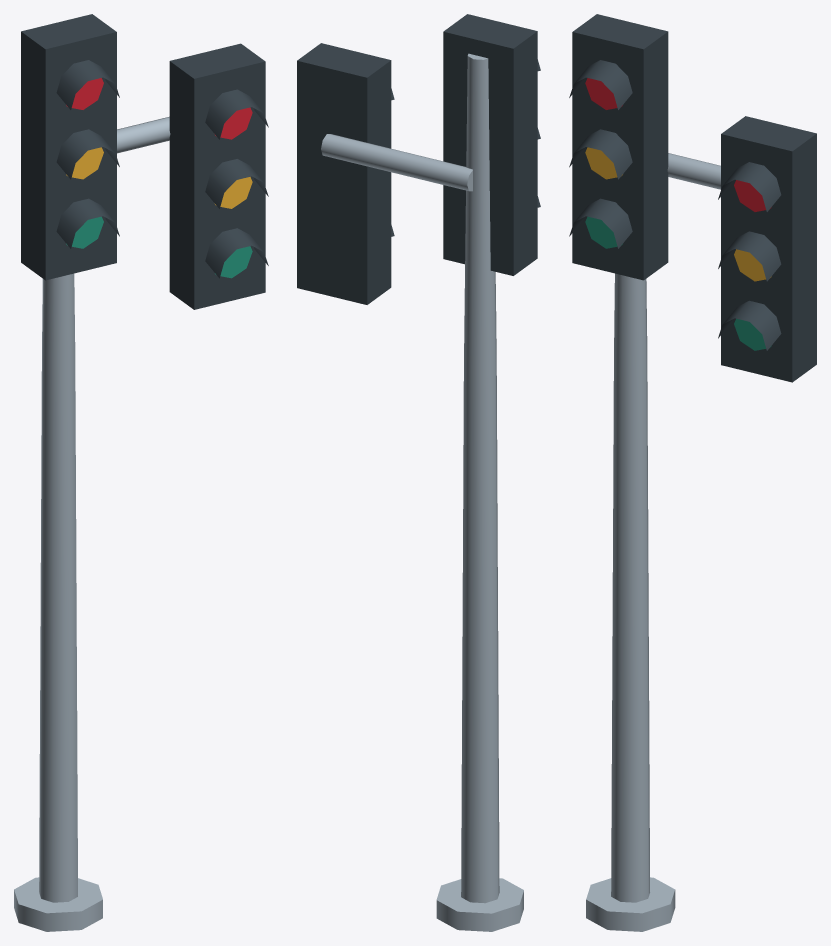
Rendered from traffic_light.glb.
3 renders of one model, left to right at view 1: azimuth 30°, elevation 25°; view 2: azimuth 150°, elevation 25°; view 3: azimuth 330°, elevation 25°, orthographic.
Parts seen in each view (by area): view 1: traffic_light; view 2: traffic_light; view 3: traffic_light.
Part boxes in pixels (x1,y1,x2,y2): traffic_light: (14,14,268,931); traffic_light: (297,14,540,931); traffic_light: (569,14,816,931).
Size of the model in its own units: 1.32 by 5 by 0.612.
